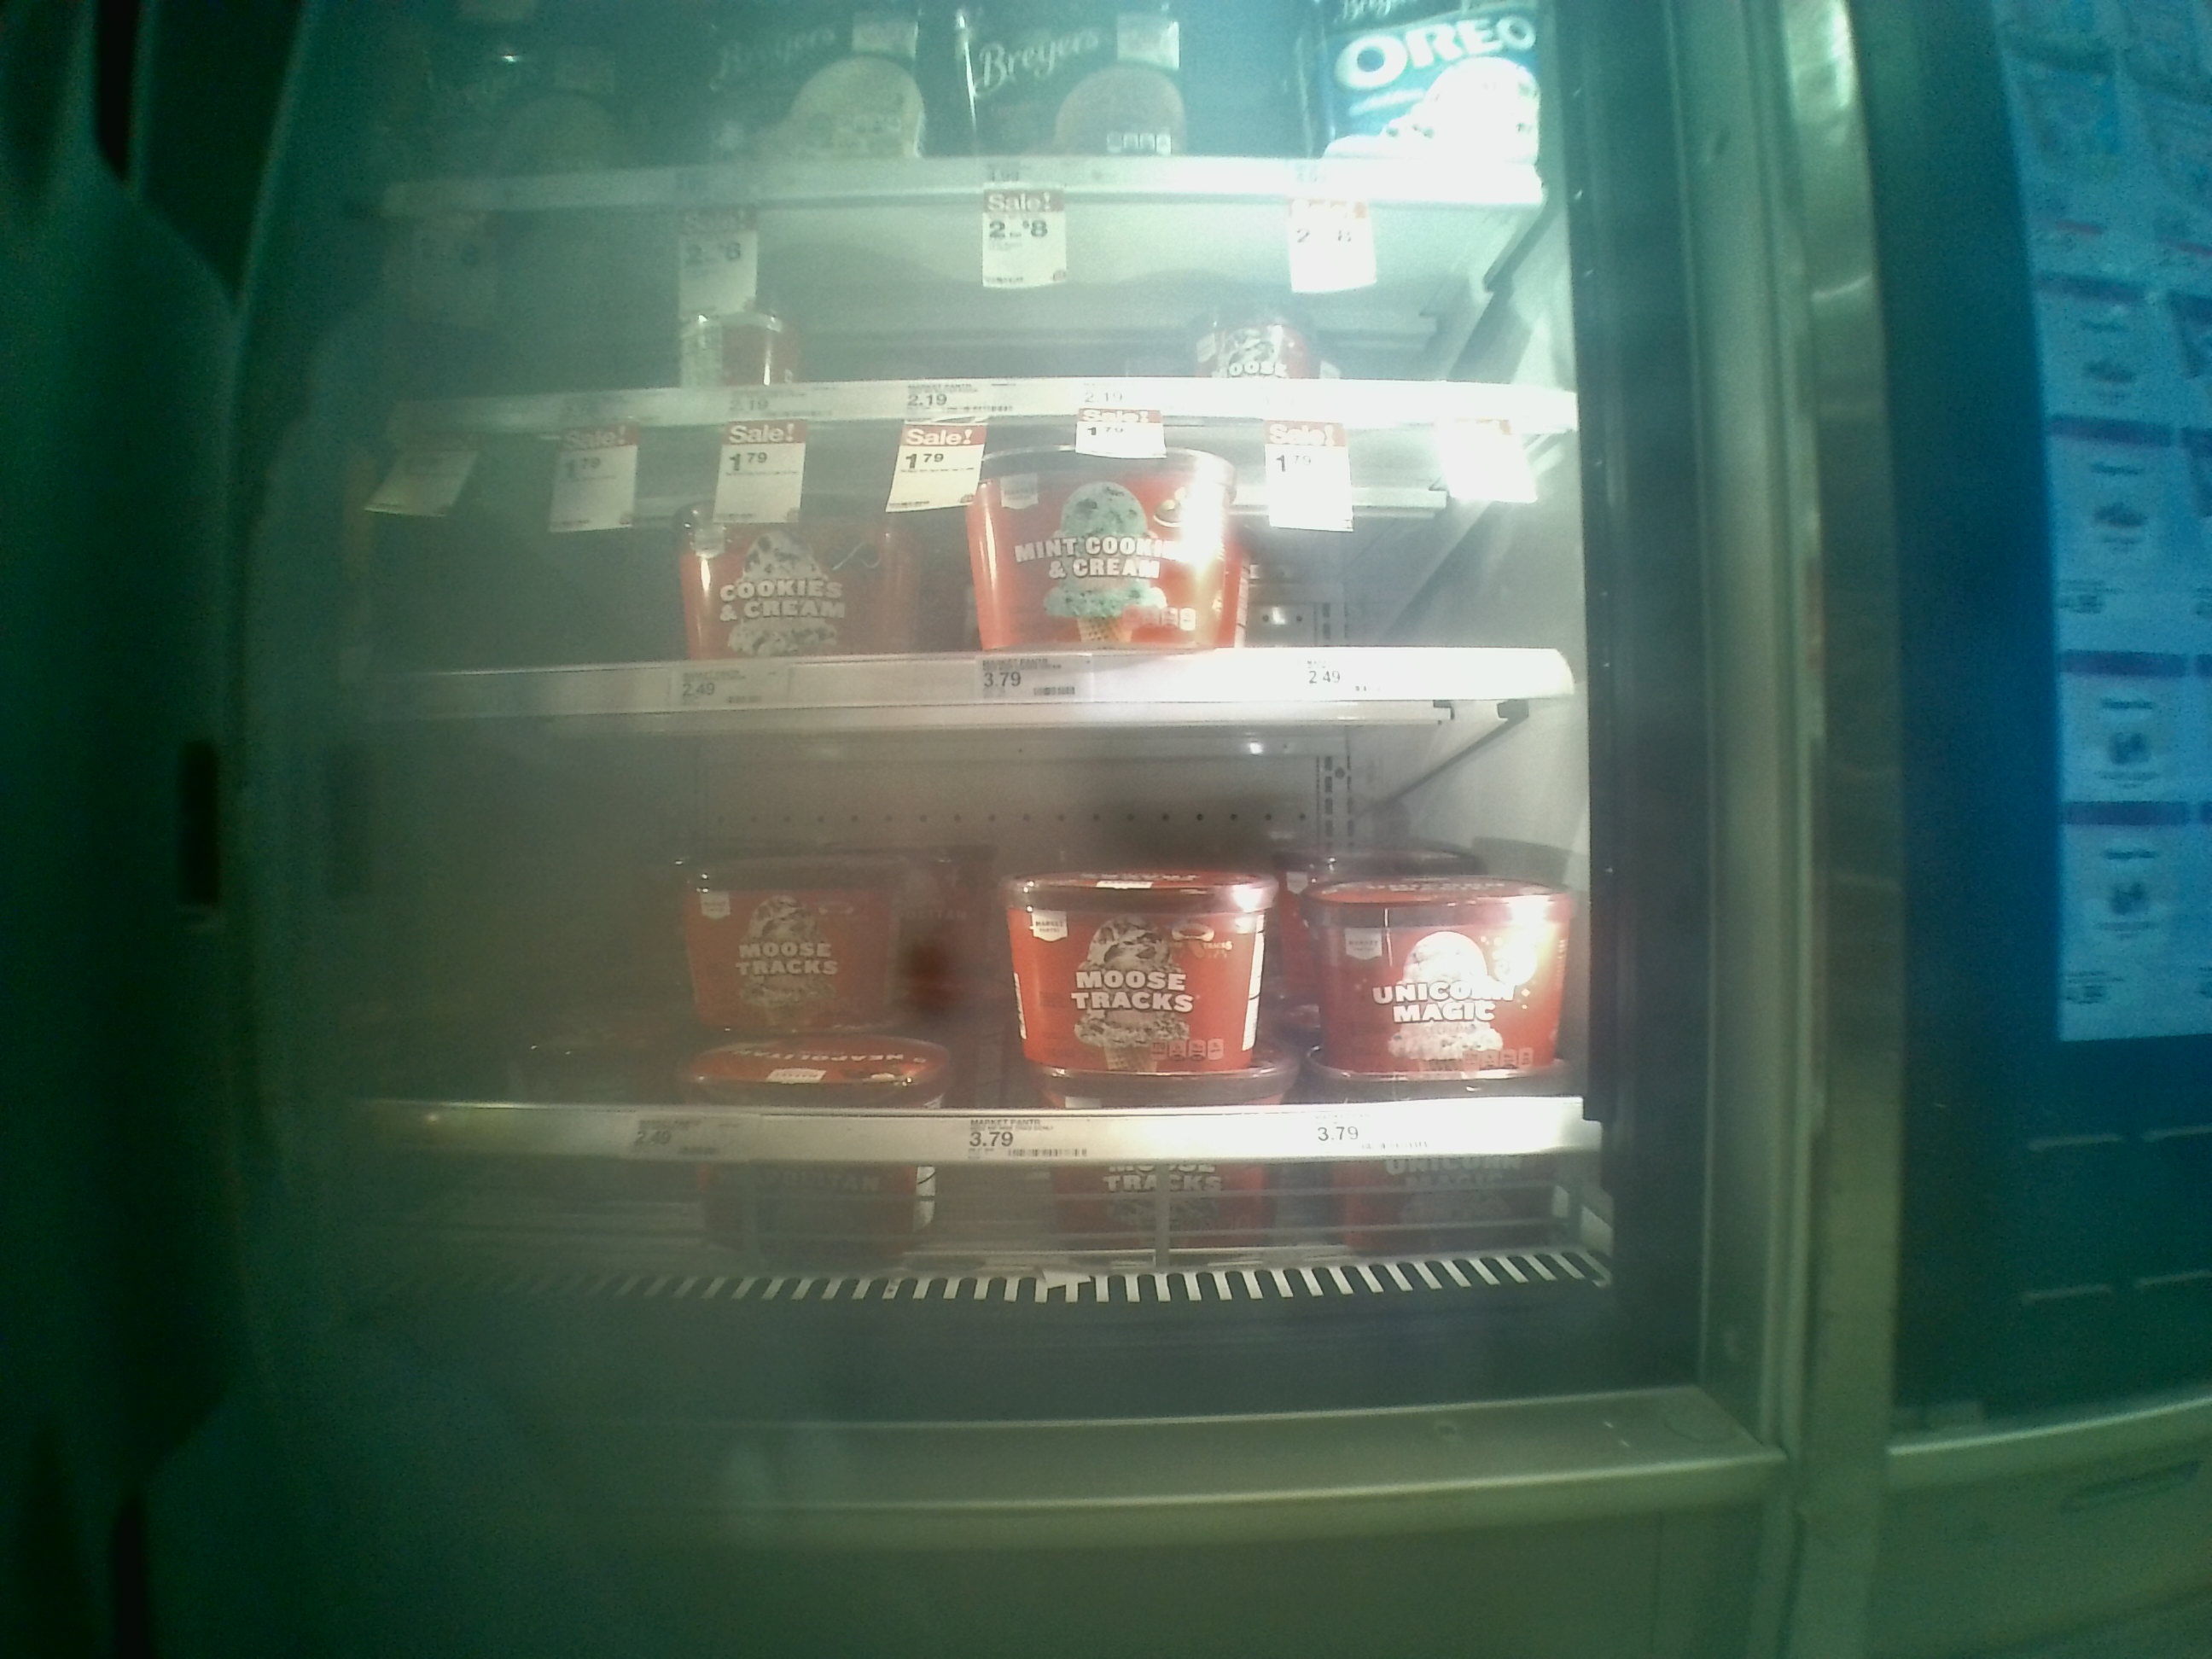ice-cream-shelf: (374, 723, 1590, 1155), (374, 425, 1588, 721)
